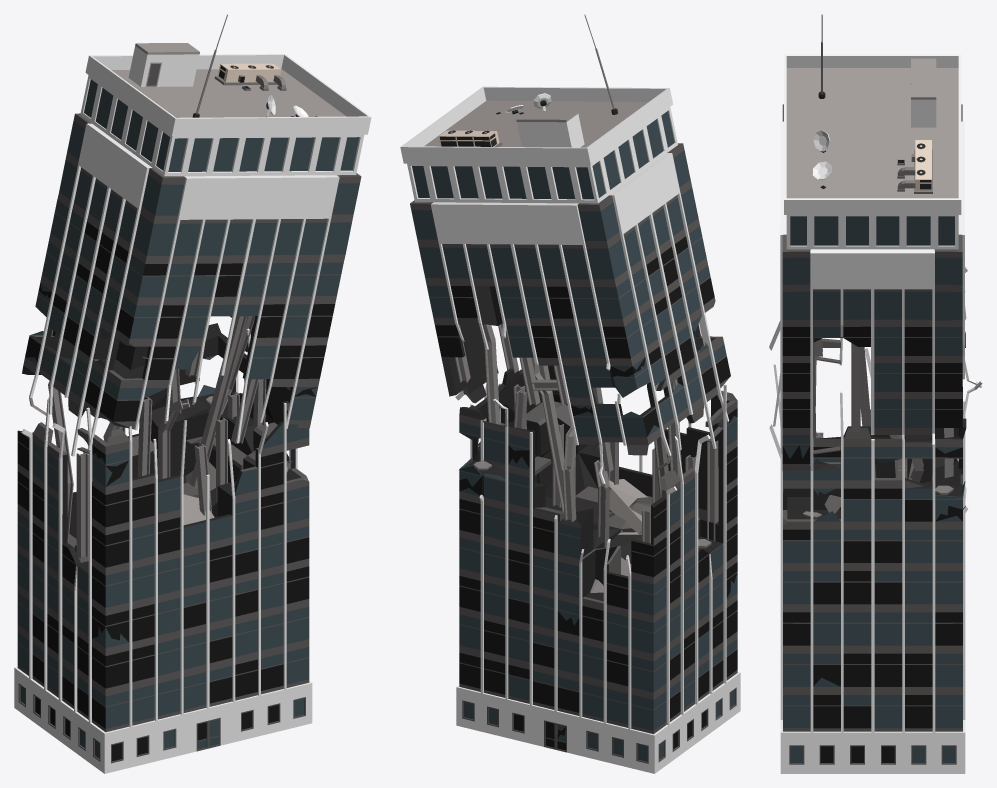
Rendered from apocalypse_building-office-tall-apocalypse-b.fbx.
3 renders of one model, left to right at view 1: azimuth 30°, elevation 25°; view 2: azimuth 150°, elevation 25°; view 3: azimuth 270°, elevation 25°, orthographic. The views are drawn at different scales.
Visible parts, largest first — view 1: apocalypse_building_office_tall_apocalypse_b; view 2: apocalypse_building_office_tall_apocalypse_b; view 3: apocalypse_building_office_tall_apocalypse_b.
Part boxes in pixels (x1=…): apocalypse_building_office_tall_apocalypse_b: x1=14, y1=14, x2=371, y2=773; apocalypse_building_office_tall_apocalypse_b: x1=400, y1=14, x2=740, y2=773; apocalypse_building_office_tall_apocalypse_b: x1=769, y1=14, x2=982, y2=773.
Size of the model in its own units: 82.04 by 200 by 53.17.
